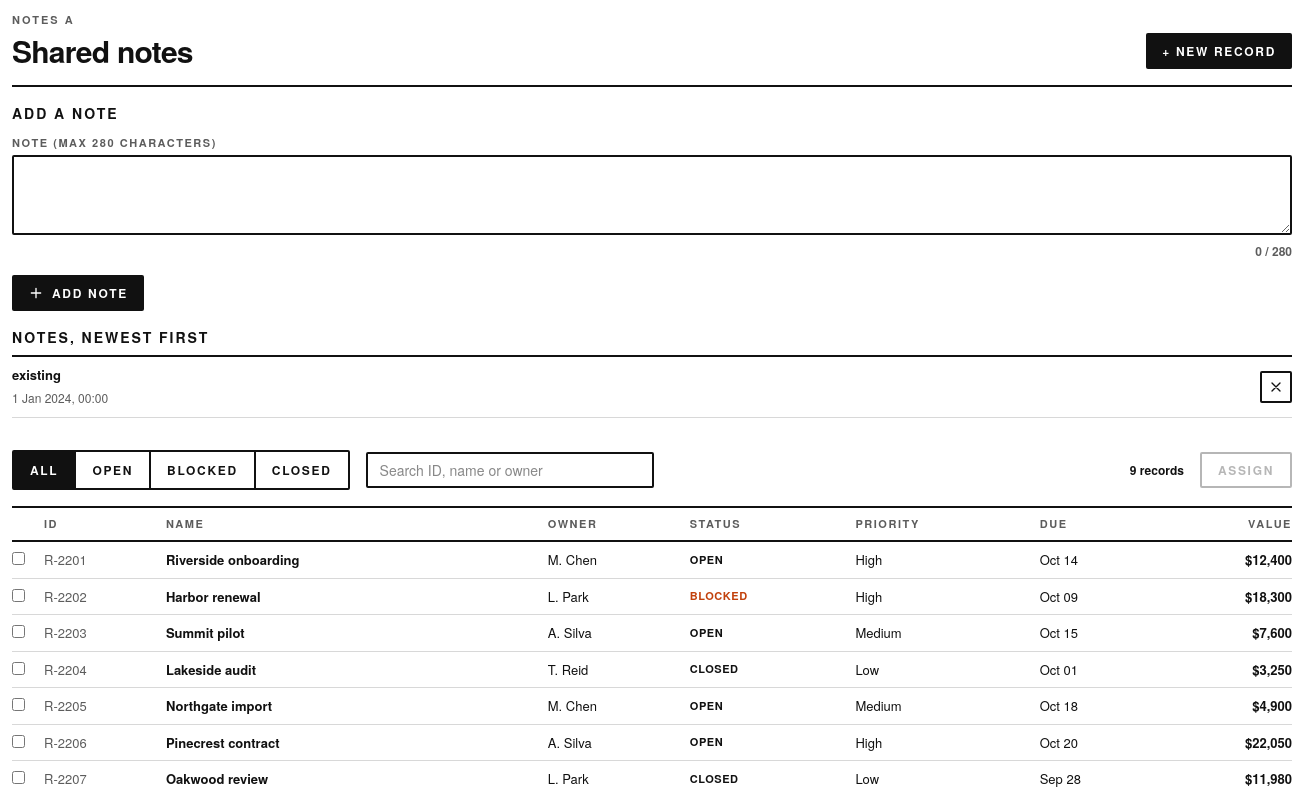
Test case: Notes screen › [AC-006] submitting valid text POSTs, prepends the note and clears the input
Expected: the text "existing" is shown, [12,365,61,384]
Type "new note" into the text box labelled "Note (max 280 characters)".
click(652, 195); type("new note")  # box [12,155,1292,235]
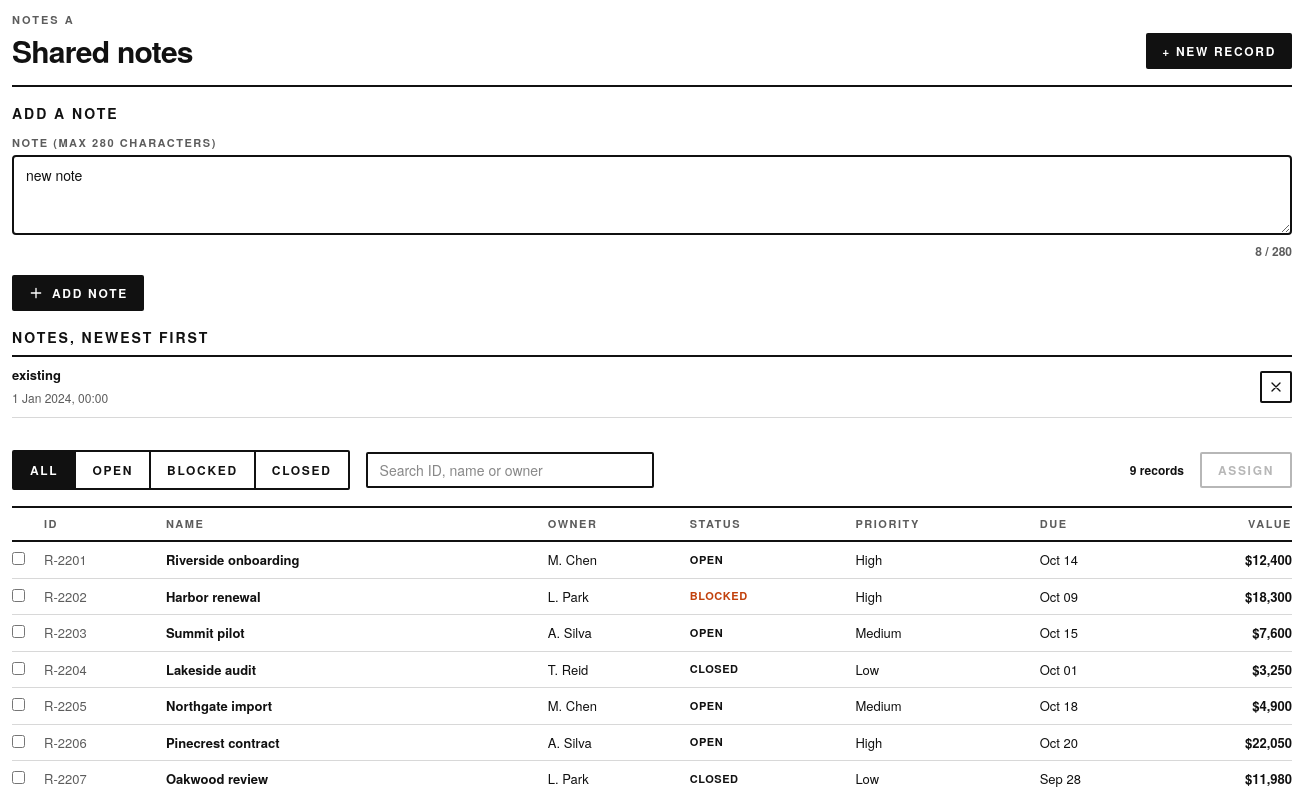
Click the button "Add note".
click(78, 293)  # box [12,275,144,311]
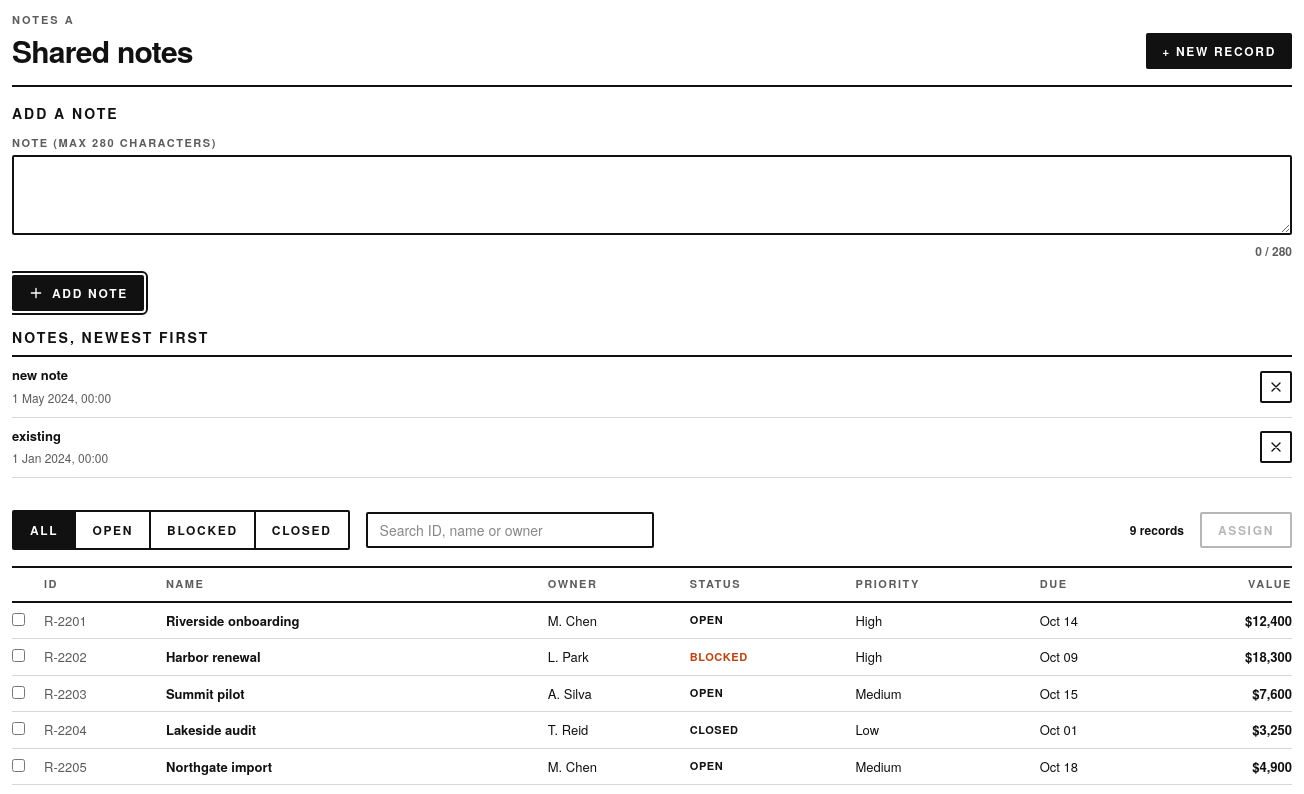
Expected: the text "new note" is shown, [12,365,68,384]
Expected: the text "1 May 2024, 00:00" is shown, [12,388,111,406]
Expected: the text box labelled "Note (max 280 characters)" is empty, [12,155,1292,235]
